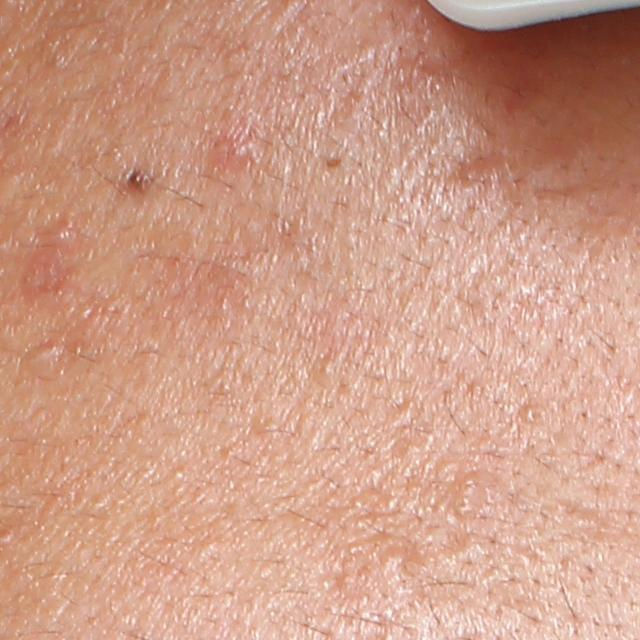comedo: (21, 339, 67, 371), (320, 152, 348, 171), (519, 405, 545, 425), (455, 495, 479, 516)
nevus: (106, 153, 184, 214)
